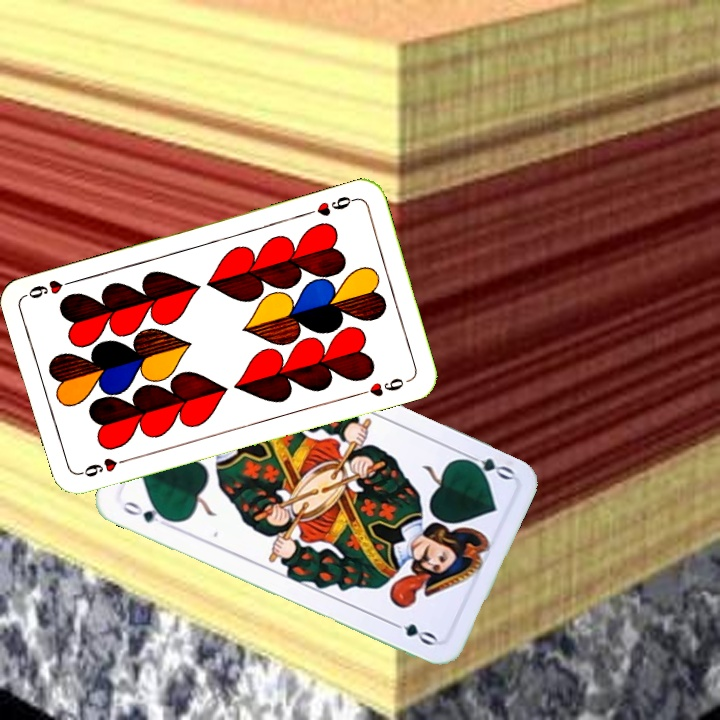GO: (457, 448, 516, 483), (118, 497, 175, 525)
H9: (301, 192, 359, 219), (75, 453, 133, 480)
